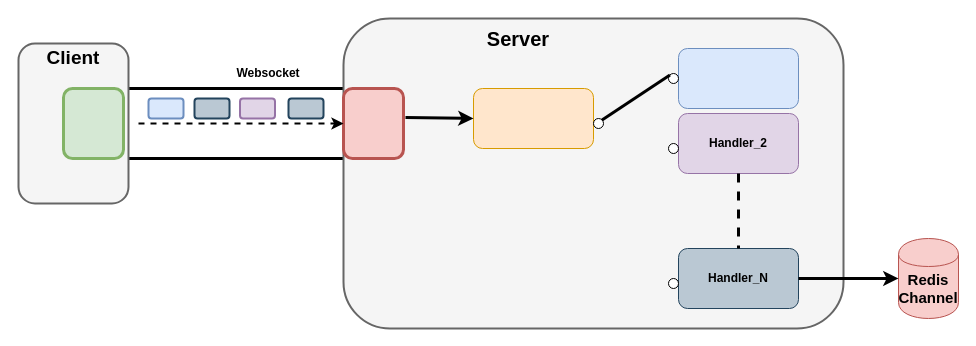
This 976x346 diagram has some shape labels left out. Here are the shapes that lost their labels. From the top down, the box of each, then its label:
(678, 48, 798, 108): Handler_1
(472, 88, 594, 148): Message Parser
